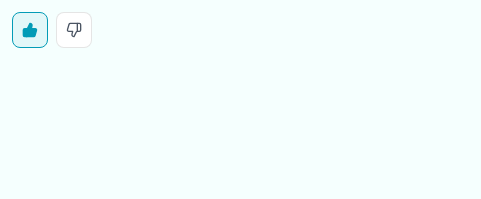
Test: MessageFeedback › asks for an optional comment after a thumbs-down, limited to 500 characters, and sends it
Step 1. Click the button named "Not helpful" → (74, 30), box [56,12,92,48]
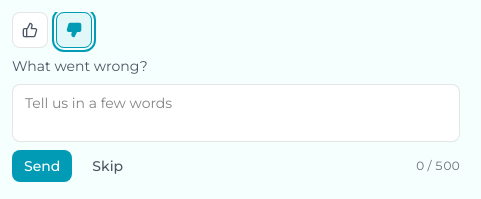
Step 2. Type "Wrong month" into the text box labelled "What went wrong?" → (236, 113), box [12,84,460,142]
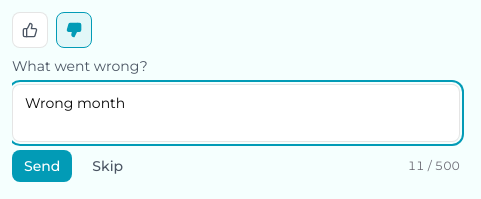
Check: the text "11 / 500" is shown, box [408,158,460,174]
Step 3. Click the button "Send" → (42, 166), box [12,150,72,182]
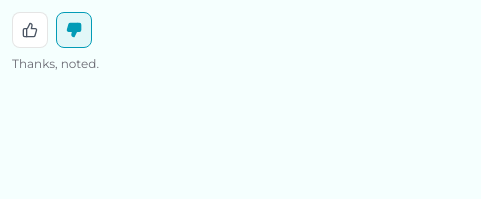
Check: the text "Thanks, noted." is shown, box [12,56,99,71]
